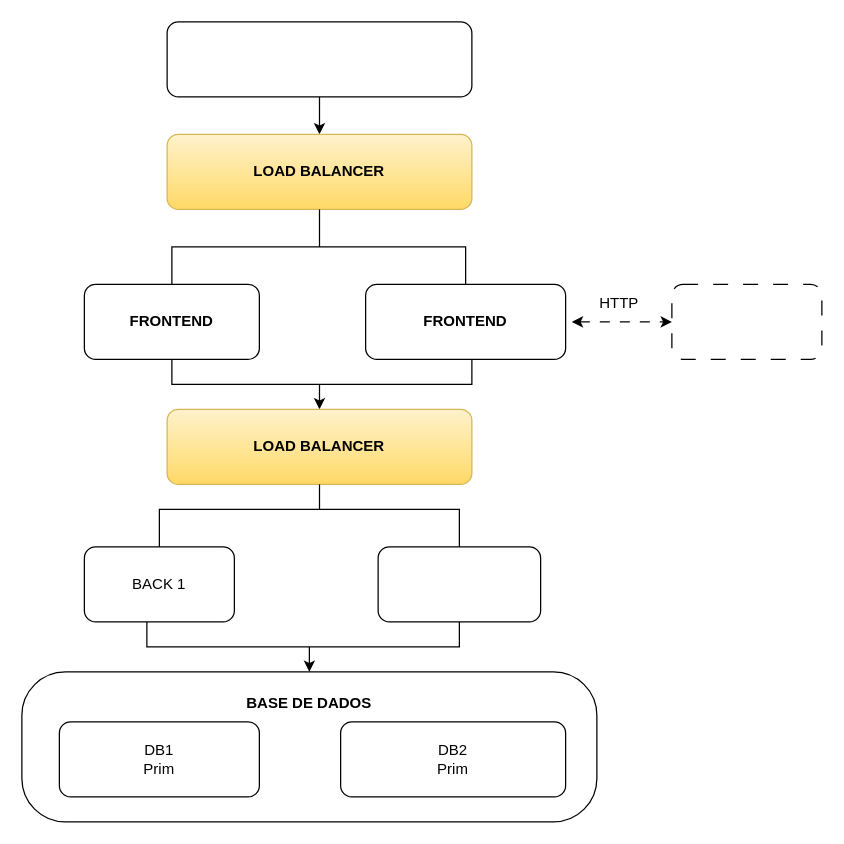
The diagram is 844 pixels wide and 844 high, and some of its shapes have lost their labels. The shapes that lost their labels are listed below. From the top down, each one's centre as x and y in pixels, then its label:
point (319, 59): UTILIZADORES
point (746, 321): Serviço Python (IA)
point (459, 584): BACK 2
